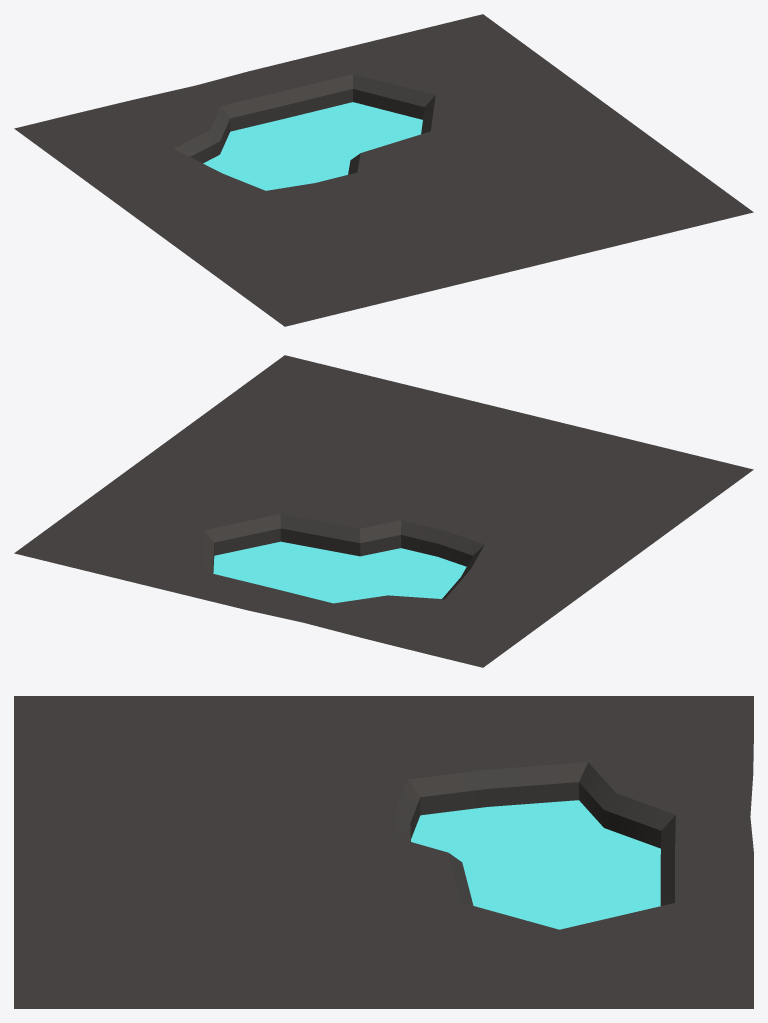
File: Demo_Terrain_04.fbx
The picture shows the model from 3 angles, top to bottom: view 1: azimuth 30°, elevation 25°; view 2: azimuth 150°, elevation 25°; view 3: azimuth 270°, elevation 25°; orthographic projection. The views are drawn at different scales.
Visible parts, largest first — view 1: pCube6; view 2: pCube6; view 3: pCube6.
Boxes of the visible parts, box(x1,y1,x2,y2) form: pCube6: box(14, 14, 753, 326); pCube6: box(14, 355, 753, 667); pCube6: box(14, 696, 753, 1008).
Size of the model in its own units: 2000 by 92.79 by 2000.
Materials: 1 (1 with a texture image).
